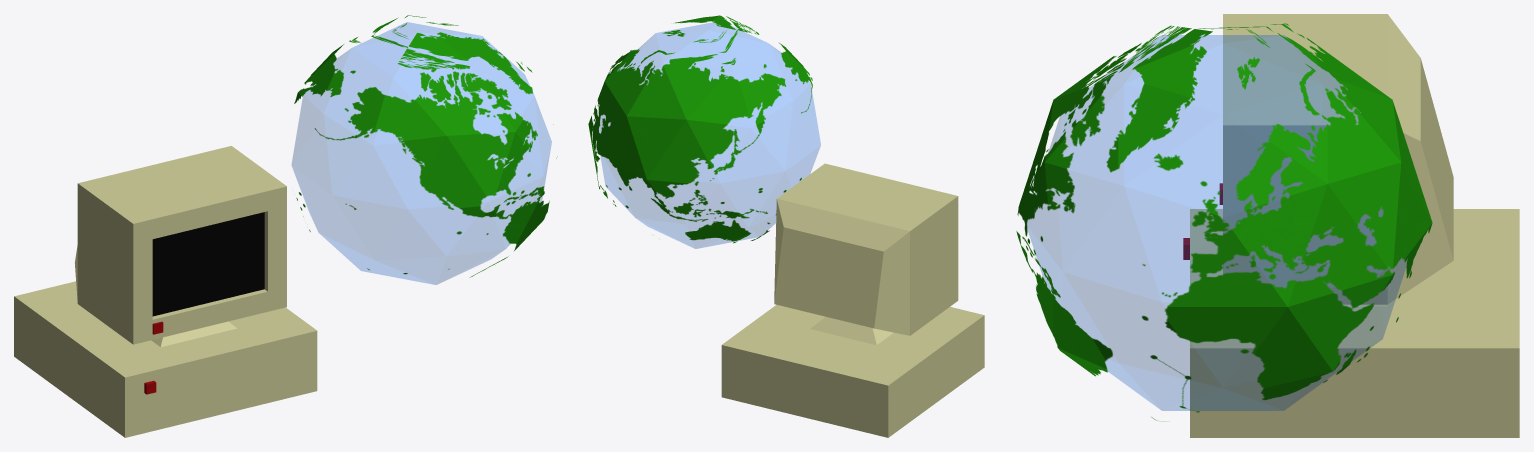
The model's file is globe.glb.
The picture shows the model from 3 angles, left to right: view 1: azimuth 30°, elevation 25°; view 2: azimuth 150°, elevation 25°; view 3: azimuth 270°, elevation 25°; orthographic projection. The views are drawn at different scales.
Visible parts, largest first — view 1: pc, globe_water, globe_terrain, screen; view 2: pc, globe_terrain, globe_water; view 3: pc, globe_water, globe_terrain.
Part boxes in pixels (x1,y1,x2,y2): pc: (14, 146, 317, 437); globe_water: (292, 22, 551, 284); globe_terrain: (294, 15, 557, 277); screen: (152, 212, 264, 316); pc: (721, 163, 984, 437); globe_terrain: (588, 15, 812, 243); globe_water: (599, 22, 820, 248); pc: (1190, 14, 1519, 437); globe_water: (1027, 35, 1406, 410); globe_terrain: (1016, 23, 1432, 421).
Bounding box in the file's own units: 2.2 × 1.64 × 1.54.
Materials: 5 (1 with a texture image).
